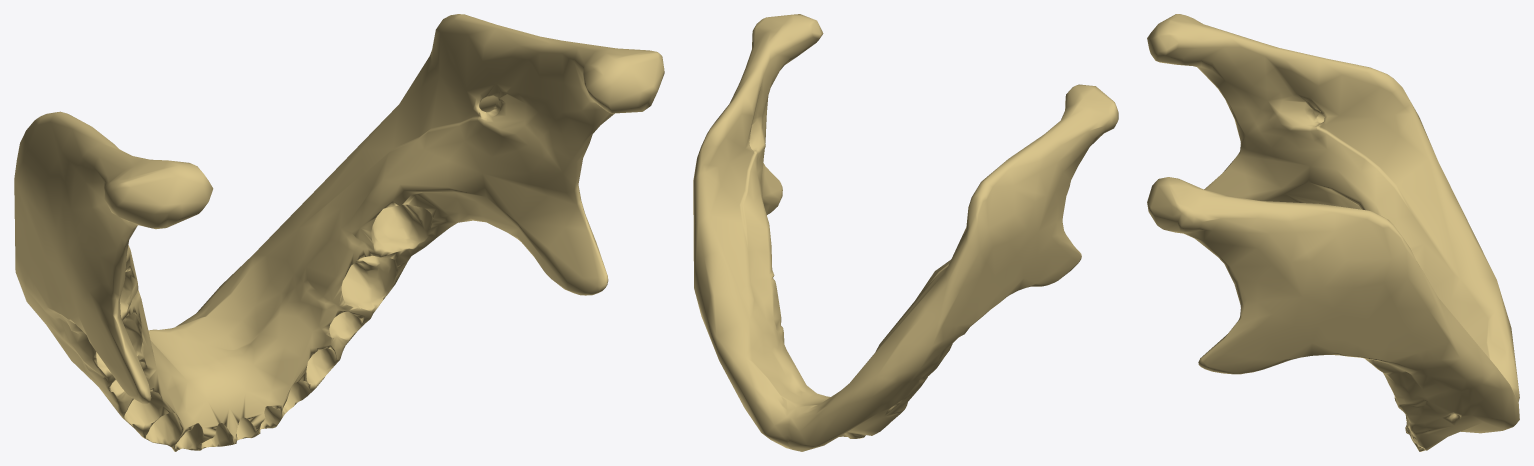
3 views of the same model, side by side, from view 1: azimuth 30°, elevation 25°; view 2: azimuth 150°, elevation 25°; view 3: azimuth 270°, elevation 25° (orthographic). The views are drawn at different scales.
Parts seen in each view (by area): view 1: 下颌骨; view 2: 下颌骨; view 3: 下颌骨.
Part boxes in pixels (box(x1,y1,x2,y2)): 下颌骨: box(14, 14, 664, 451); 下颌骨: box(693, 14, 1118, 451); 下颌骨: box(1147, 14, 1519, 451).
Size of the model in its own units: 0.1522 by 0.1207 by 0.1213.
